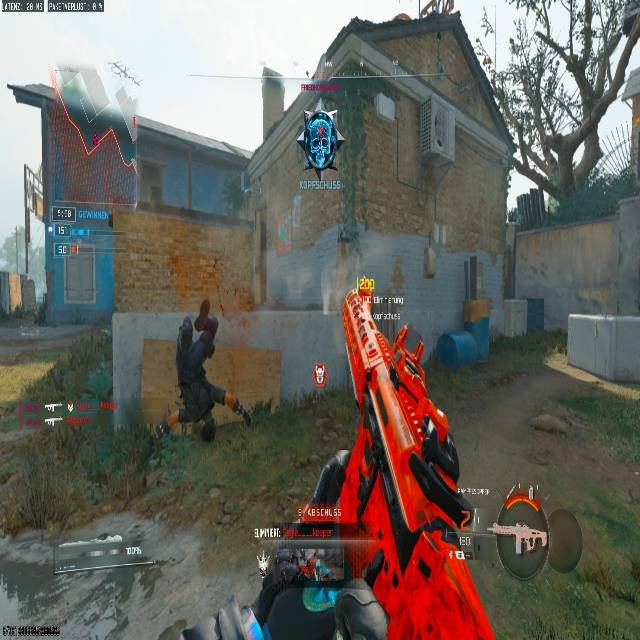player: (251, 326, 478, 640), (154, 299, 251, 441), (300, 99, 338, 170)
